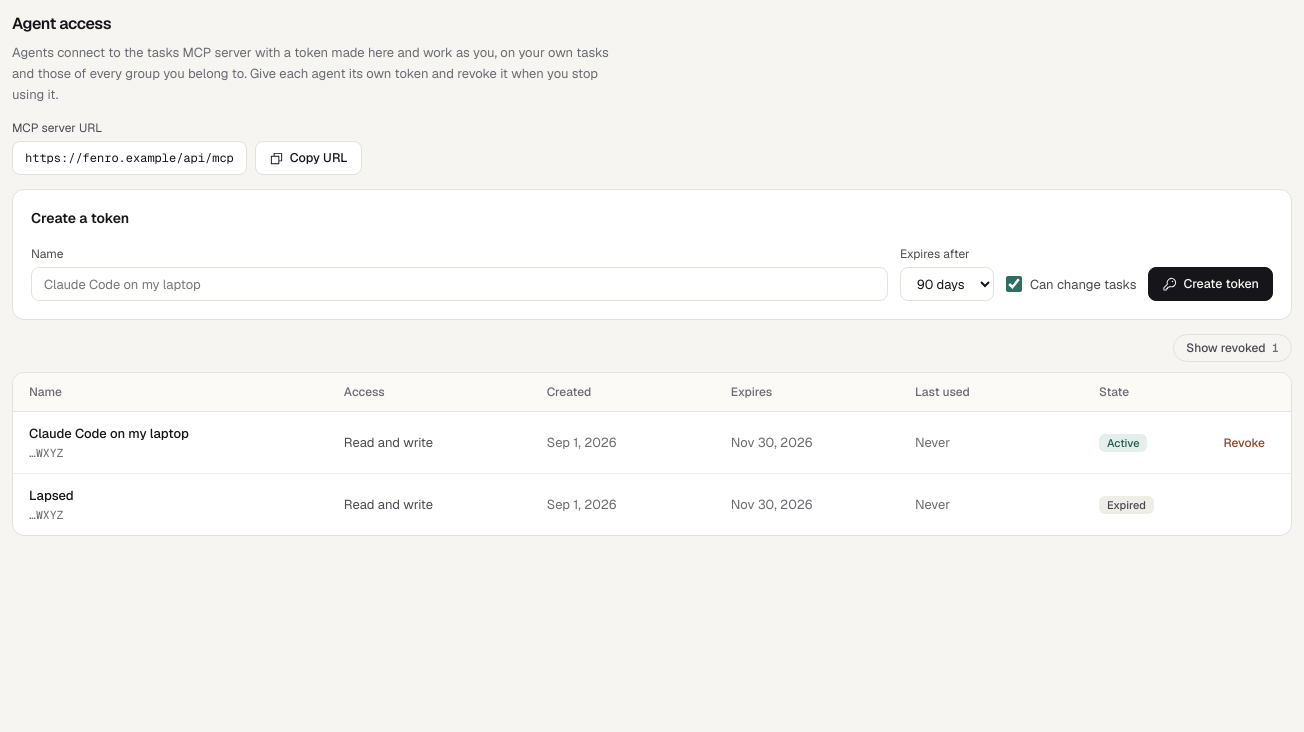
Test: AgentAccess › hides revoked tokens until the person asks to see them
Expected: the text "Old" is not shown
Expected: the text "Lapsed" is shown, [29,487,74,504]
Click the button "Show revoked 1": [1233, 348] box [1173,334,1292,362]
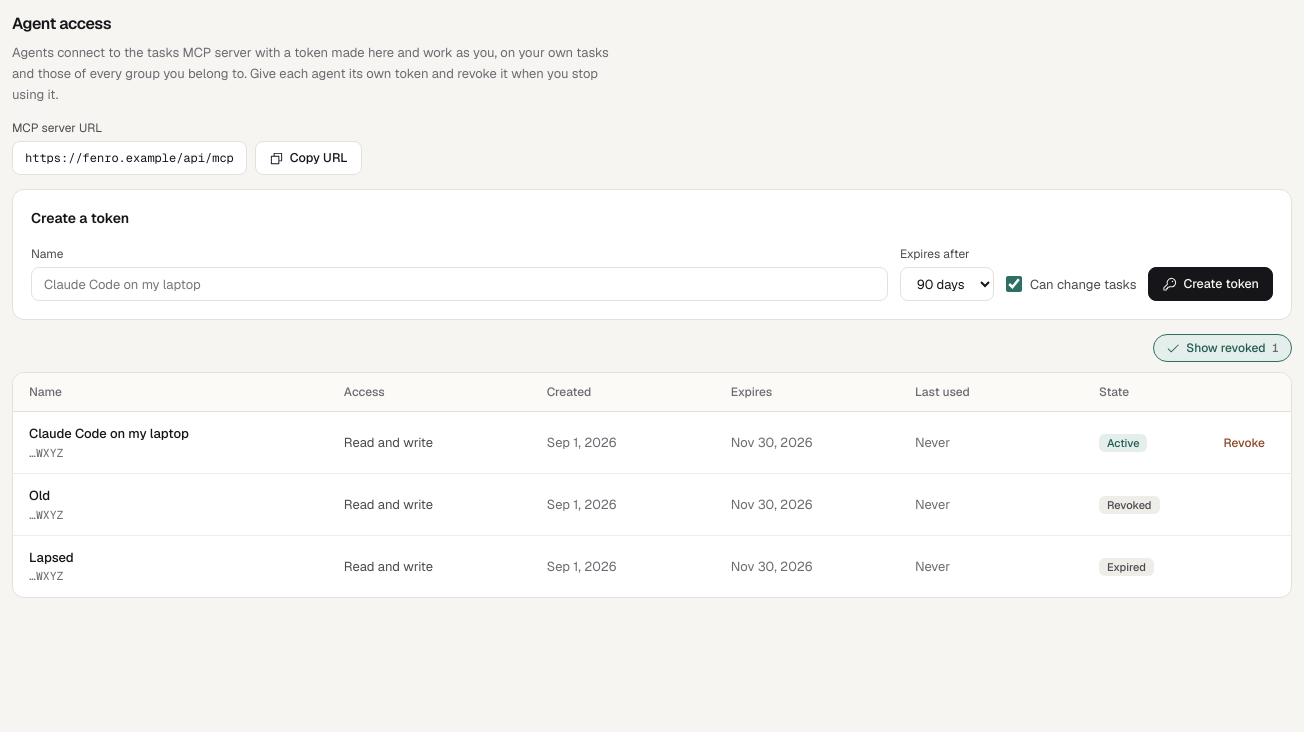
Expected: the text "Old" is shown, [29,487,50,504]
